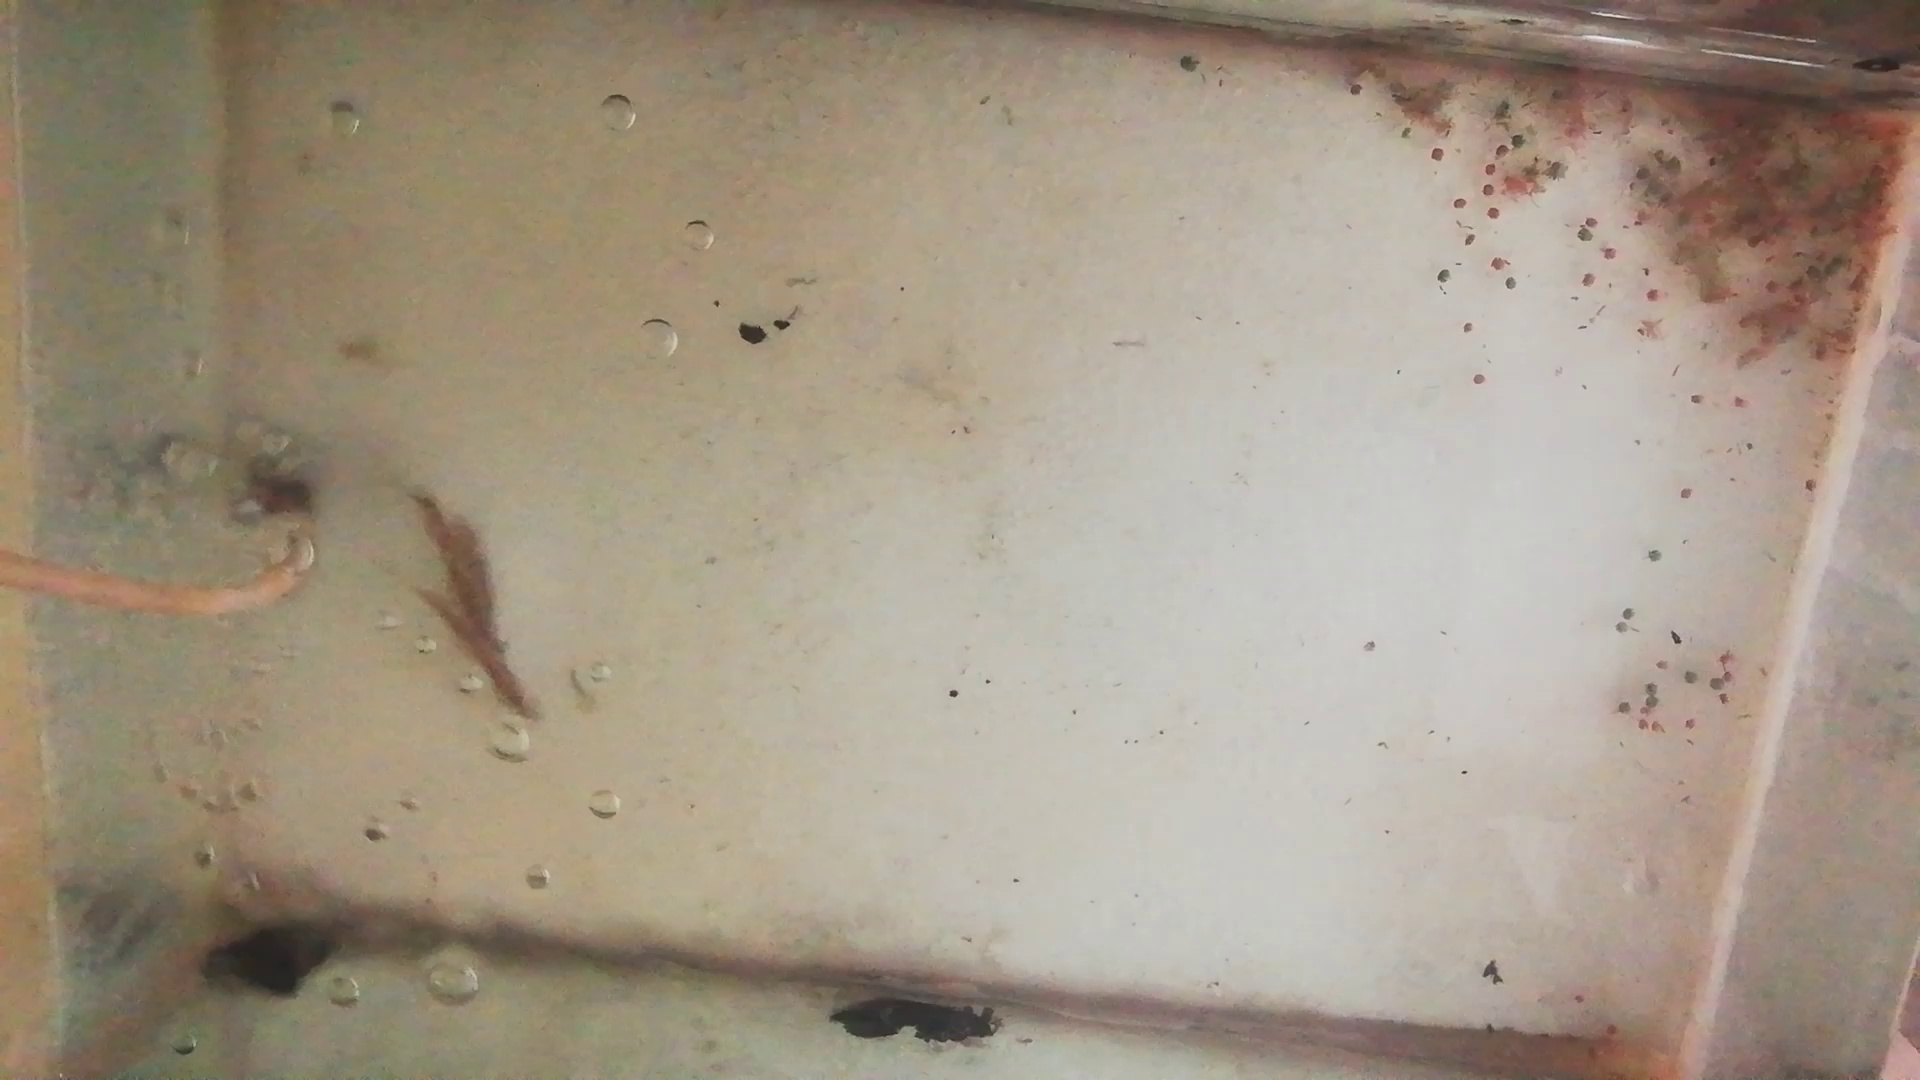fish: (409, 487, 539, 650), (409, 589, 545, 725)
